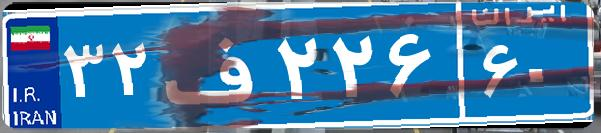0: (525, 38, 570, 115)
2: (273, 28, 330, 110), (330, 28, 385, 110), (110, 28, 158, 105)
3: (57, 26, 110, 107)
6: (385, 28, 445, 110), (475, 38, 525, 113)
ف: (158, 15, 273, 115)
